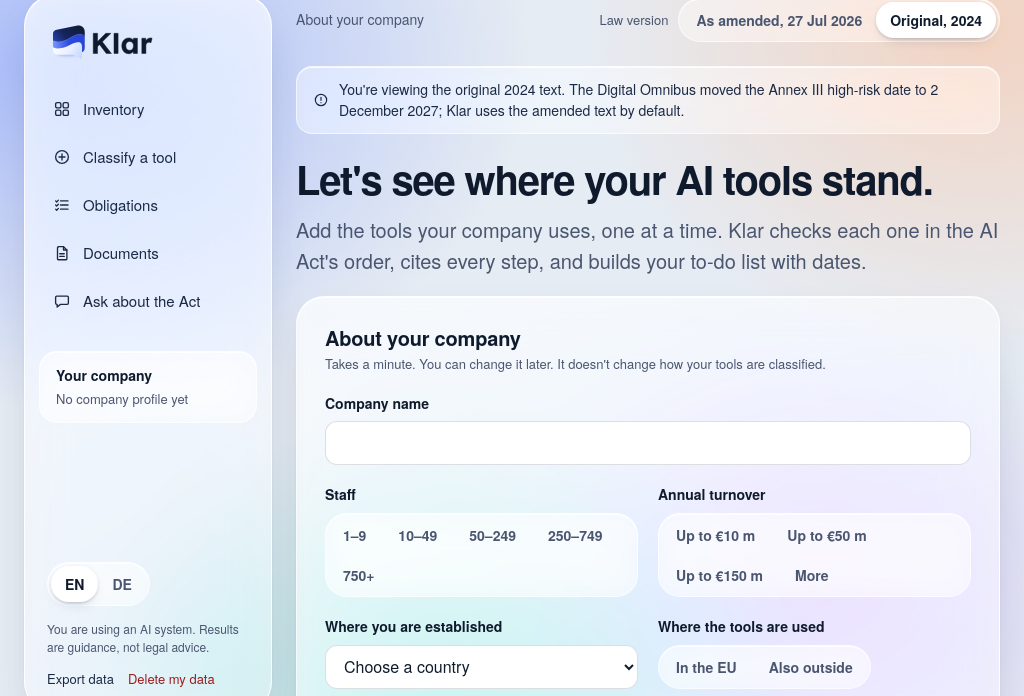
Test: Welcome, the size line under the original 2024 text › shows no small mid-cap and no Art. 99(6a)
Expected: the heading "Let's see where your AI tools stand." is shown, [296,154,1000,204]
Click the button "250–749" at (575, 535), box [534,517,616,553]
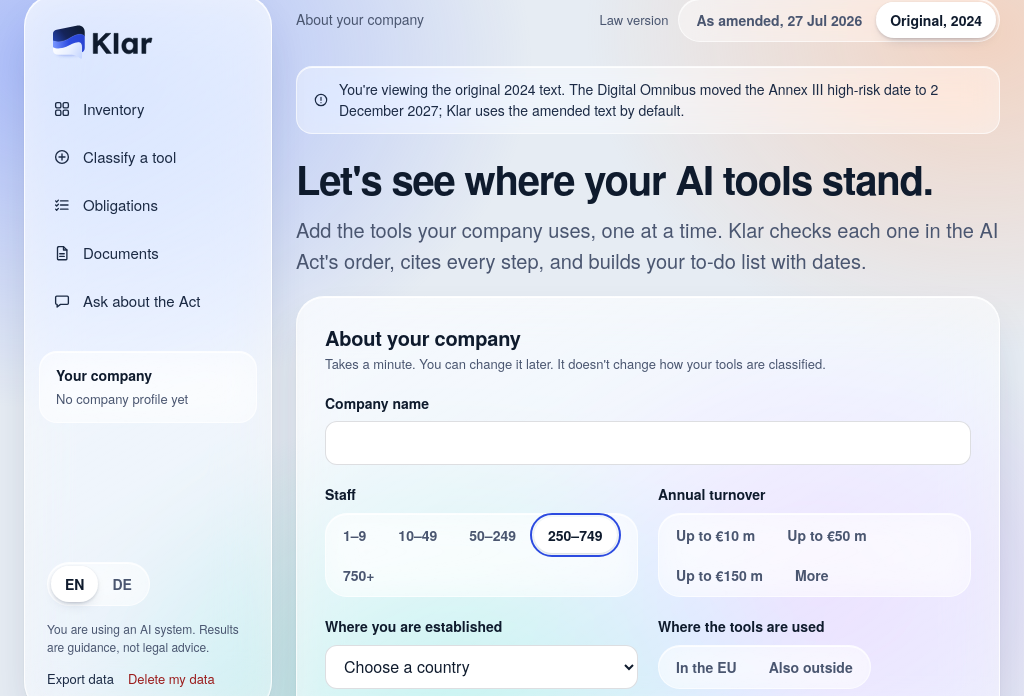
Click the button "Up to €50 m" at (827, 535), box [773,517,881,553]
(page scrolled)
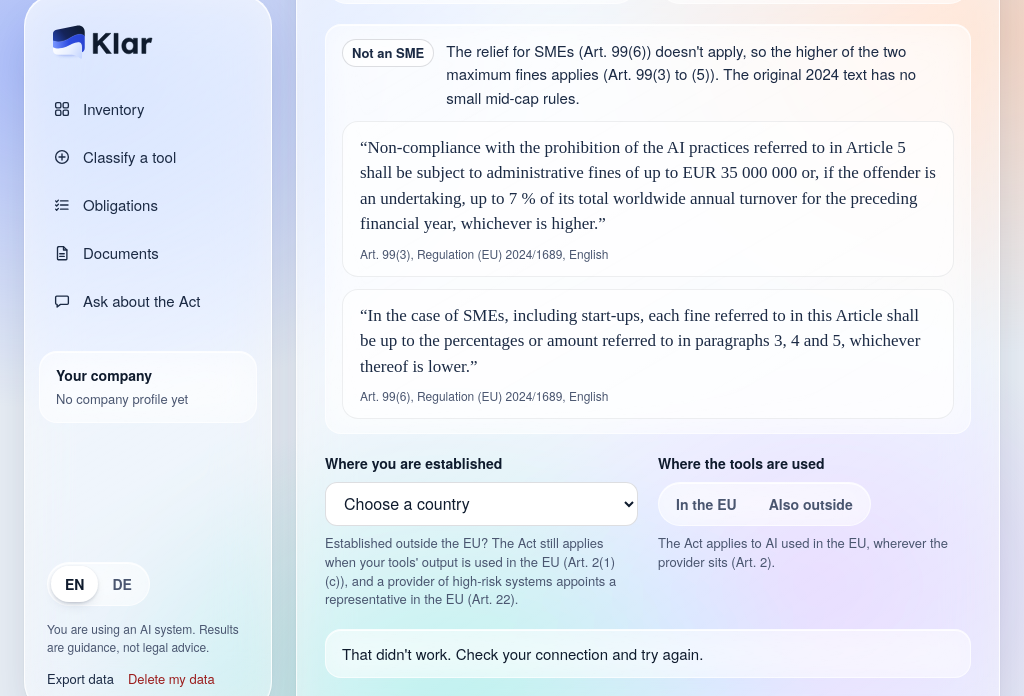
Result: the text "Not an SME" is shown at [342,39,434,66]
Result: the text "no small mid-cap rules" is shown at [446,40,916,108]
Result: the text "Art. 99(6), Regulation (EU) 2024/1689, English" shows "In the case of SMEs" at [360,306,920,376]
